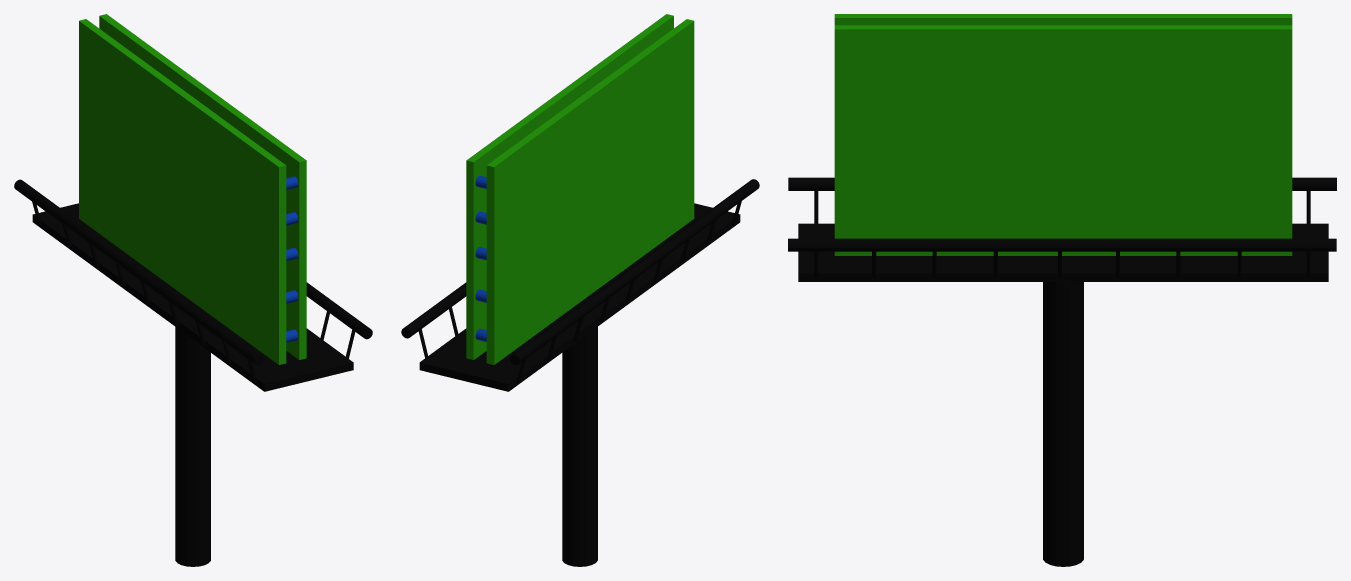
The model's file is Billboard_SW.fbx.
3 renders of one model, left to right at view 1: azimuth 30°, elevation 25°; view 2: azimuth 150°, elevation 25°; view 3: azimuth 270°, elevation 25°, orthographic. The views are drawn at different scales.
Visible parts, largest first — view 1: Billboard_SW; view 2: Billboard_SW; view 3: Billboard_SW.
Part boxes in pixels (x1,y1,x2,y2): Billboard_SW: (14, 14, 372, 566); Billboard_SW: (401, 14, 759, 566); Billboard_SW: (788, 14, 1336, 566).
Size of the model in its own units: 147 by 554 by 514.
